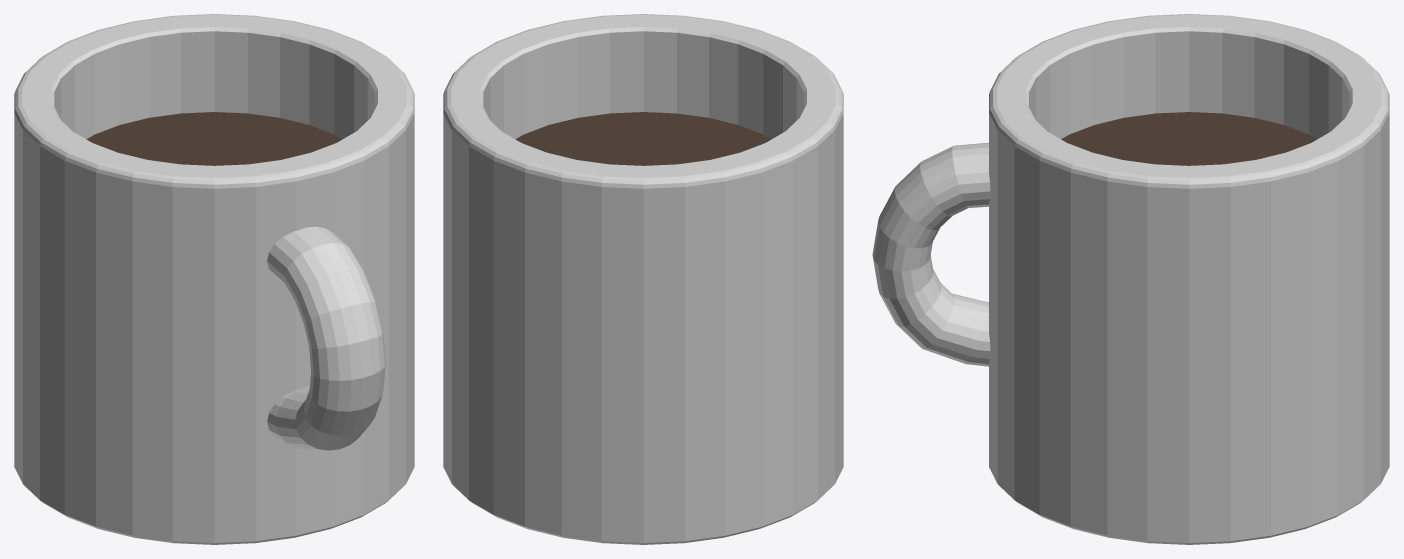
File: SU_Cup.fbx
3 views of the same model, side by side, from view 1: azimuth 30°, elevation 25°; view 2: azimuth 150°, elevation 25°; view 3: azimuth 270°, elevation 25° (orthographic).
Parts seen in each view (by area): view 1: pTorus2; view 2: pTorus2; view 3: pTorus2.
Part boxes in pixels (x1,y1,x2,y2): pTorus2: (14,14,414,544); pTorus2: (443,14,843,544); pTorus2: (872,14,1389,544).
Bounding box in the file's own units: 2 × 2 × 2.57.
